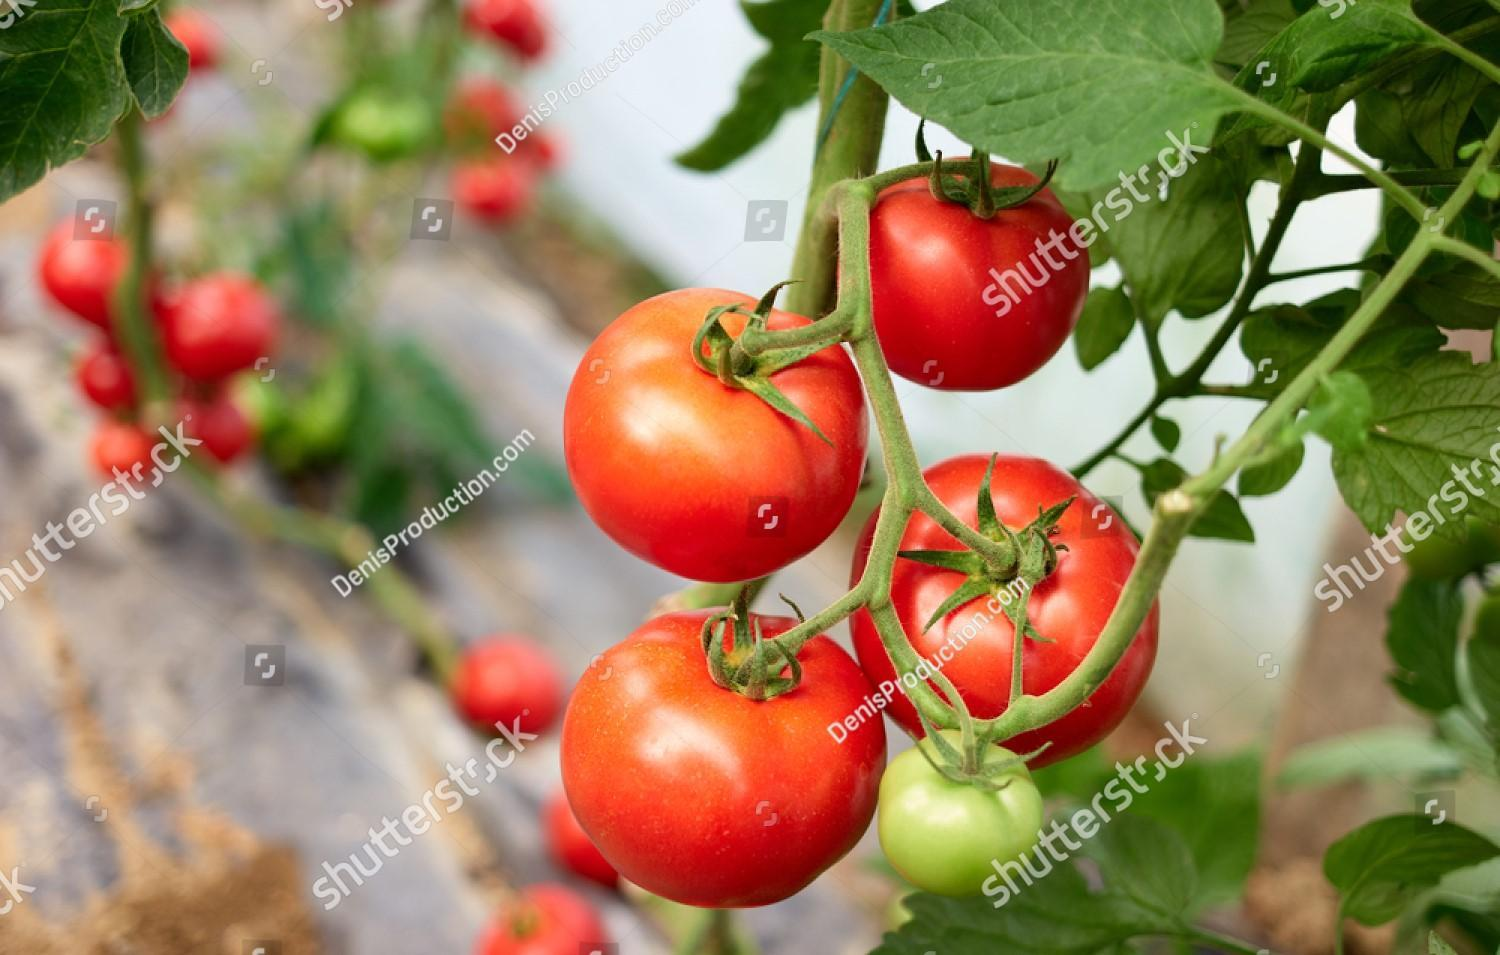healthy-tomato: (560, 589, 895, 913), (561, 276, 882, 589), (836, 456, 1155, 764), (832, 153, 1098, 396)
